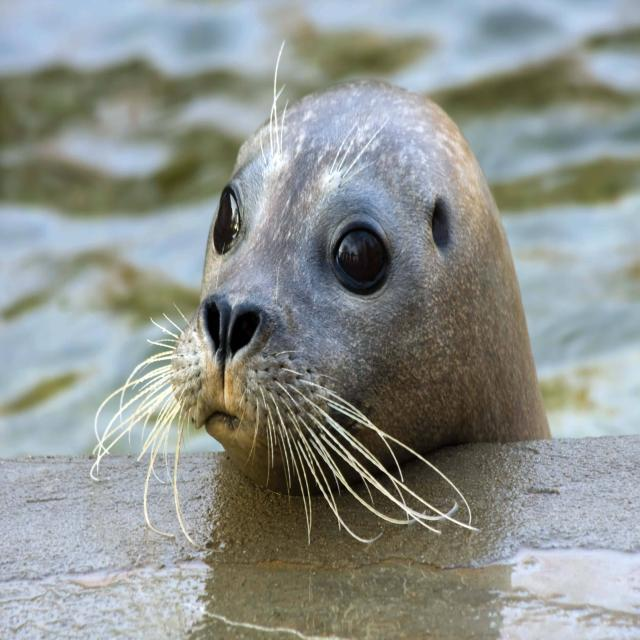WaterDog: (86, 54, 572, 567)
